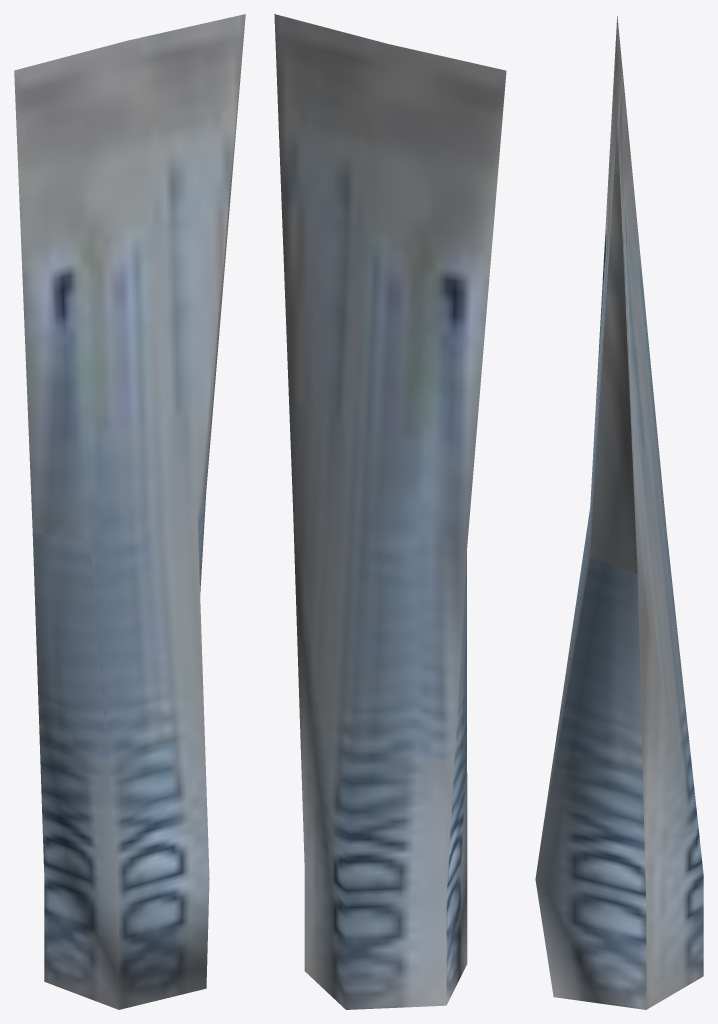
Rendered from toothpaste-col.glb.
3 renders of one model, left to right at view 1: azimuth 30°, elevation 25°; view 2: azimuth 150°, elevation 25°; view 3: azimuth 270°, elevation 25°, orthographic. The views are drawn at different scales.
Parts seen in each view (by area): view 1: toothpaste-col; view 2: toothpaste-col; view 3: toothpaste-col.
Part boxes in pixels (bbox=[...]): toothpaste-col: bbox=[14, 14, 245, 1009]; toothpaste-col: bbox=[274, 14, 506, 1009]; toothpaste-col: bbox=[535, 16, 703, 1009].
Size of the model in its own units: 0.05 by 0.1927 by 0.0324.
1 material, 1 textured.
